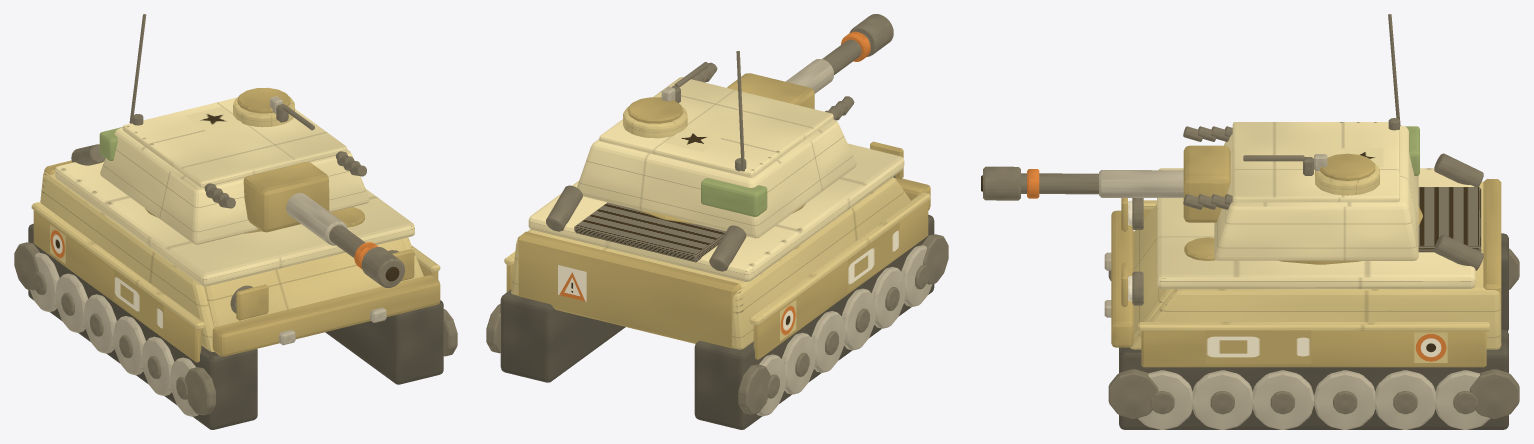
The model's file is tank.glb.
3 renders of one model, left to right at view 1: azimuth 30°, elevation 25°; view 2: azimuth 150°, elevation 25°; view 3: azimuth 270°, elevation 25°, orthographic. The views are drawn at different scales.
Visible parts, largest first — view 1: Tank_Hull, Tank_Turret, Tank_Gun, Wheel_L4, Wheel_L3, Wheel_L5, Wheel_L2, Wheel_L6, Sprocket_L1, Wheel_L1, Sprocket_L2, Sprocket_R1; view 2: Tank_Hull, Tank_Turret, Tank_Gun, Wheel_L3, Wheel_L5, Wheel_L4, Wheel_L2, Wheel_L1, Sprocket_L2, Wheel_L6, Sprocket_L1, Sprocket_R2; view 3: Tank_Hull, Tank_Turret, Tank_Gun, Wheel_R3, Wheel_R4, Wheel_R2, Wheel_R5, Wheel_R6, Wheel_R1, Sprocket_R1, Sprocket_R2.
Part boxes in pixels (x1,y1,x2,y2): Tank_Hull: (28,160,443,429); Tank_Turret: (71,14,369,244); Tank_Gun: (243,162,404,287); Wheel_L4: (83,294,116,353); Wheel_L3: (113,316,145,375); Wheel_L5: (55,273,87,332); Wheel_L2: (141,336,174,395); Wheel_L6: (30,252,59,311); Sprocket_L1: (185,367,215,415); Wheel_L1: (170,357,198,416); Sprocket_L2: (14,242,39,290); Sprocket_R1: (443,309,457,356); Tank_Hull: (500,141,934,429); Tank_Turret: (546,51,856,271); Tank_Gun: (727,14,893,109); Wheel_L3: (841,288,876,350); Wheel_L5: (782,332,815,394); Wheel_L4: (811,311,845,372); Wheel_L2: (871,267,905,328); Wheel_L1: (901,245,932,306); Sprocket_L2: (738,364,770,414); Wheel_L6: (757,354,786,416); Sprocket_L1: (922,234,948,284); Sprocket_R2: (486,303,500,353); Tank_Hull: (1104,168,1508,429); Tank_Turret: (1183,14,1483,270); Tank_Gun: (981,145,1230,222); Wheel_R3: (1252,370,1313,429); Wheel_R4: (1314,370,1375,429); Wheel_R2: (1192,370,1252,429); Wheel_R5: (1375,370,1435,429); Wheel_R6: (1435,370,1490,429); Wheel_R1: (1138,370,1192,429); Sprocket_R1: (1108,369,1158,418); Sprocket_R2: (1469,369,1519,418).
Size of the model in its own units: 2.77 by 3.25 by 4.86.
Materials: 2 (1 with a texture image).
